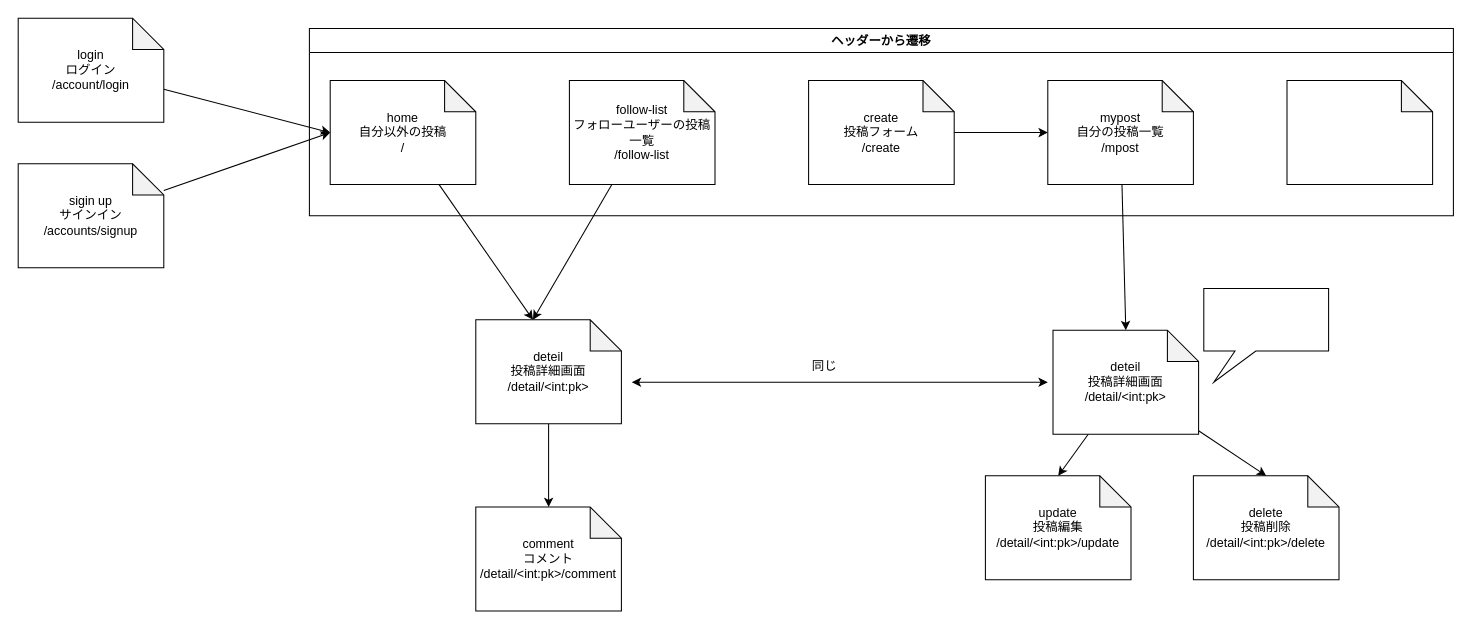
This 1472x629 diagram has some shape labels left out. The centre of each missing label's shape, as x and y in pixels:
"logout ログアウト画面 account/logout" goes at point 1359,132.
"いいね&フォロー機能" goes at point 1266,335.
